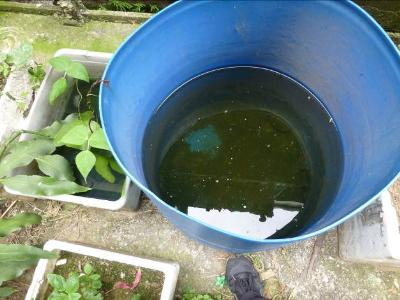box: (4, 48, 141, 211)
bucket: (99, 1, 399, 253)
